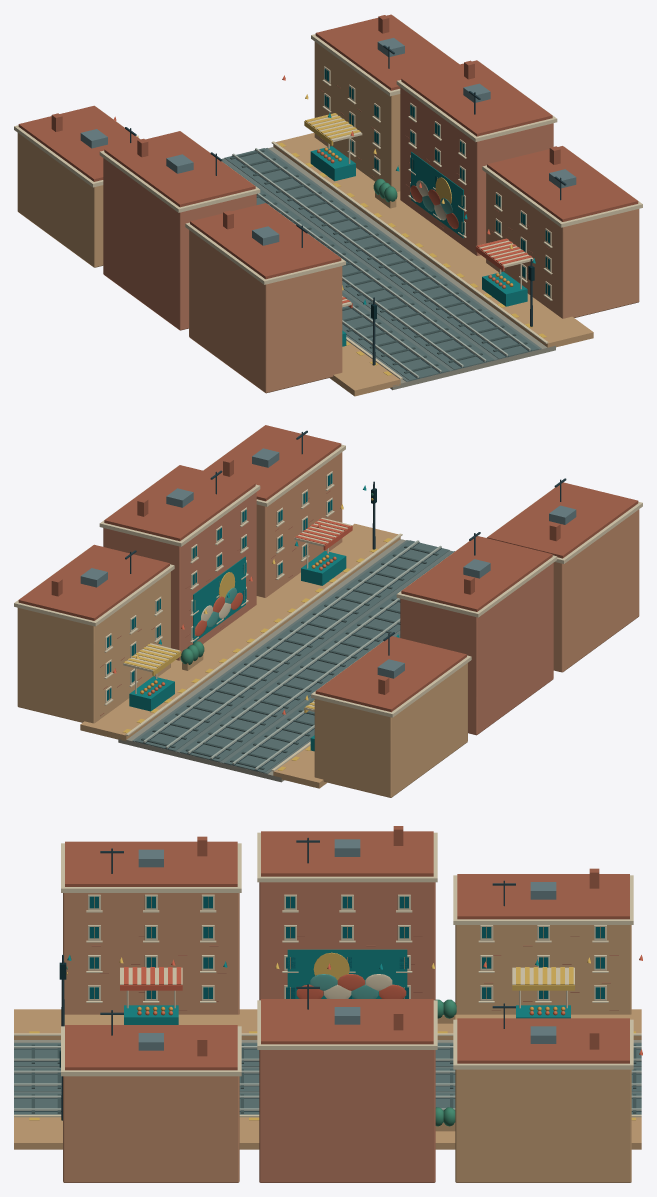
File: mural-0.glb
3 views of the same model, one above another, from view 1: azimuth 30°, elevation 25°; view 2: azimuth 150°, elevation 25°; view 3: azimuth 270°, elevation 25° (orthographic). The views are drawn at different scales.
Visible parts, largest first — view 1: city-mural-0; view 2: city-mural-0; view 3: city-mural-0.
Part boxes in pixels (x1,y1,x2,y2): city-mural-0: (14,14,642,396); city-mural-0: (14,425,642,797); city-mural-0: (14,826,642,1182).
Size of the model in its own units: 25.5 by 9.91 by 32.07.
